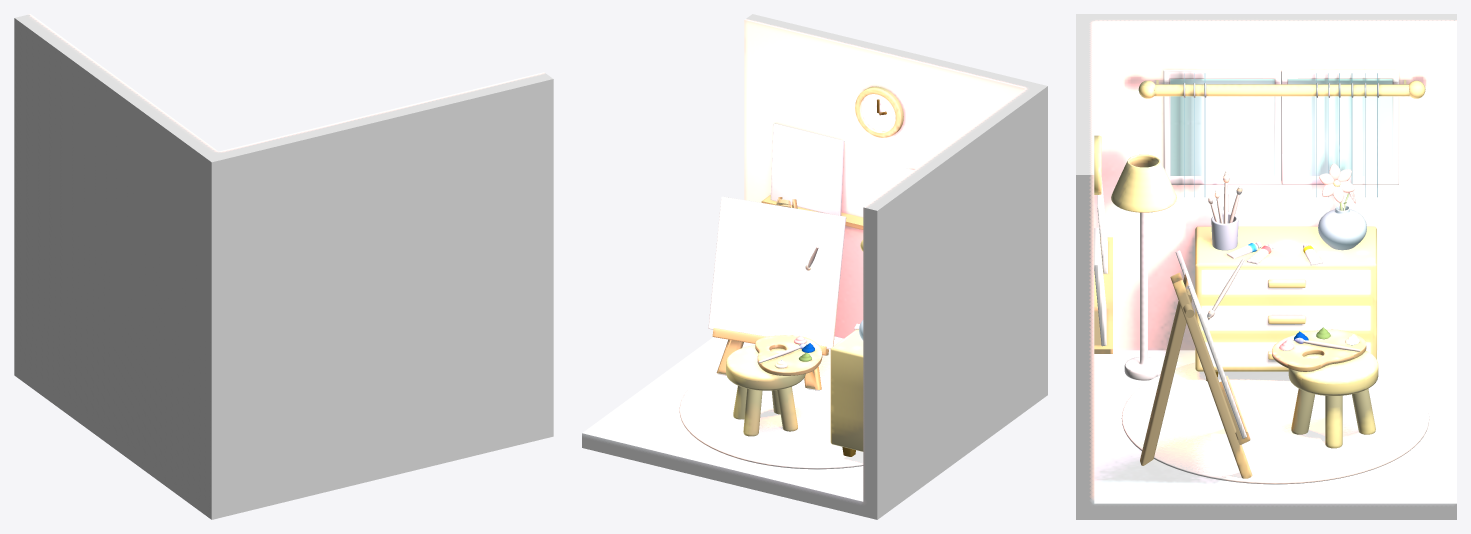
File: room_painting.gltf
3 renders of one model, left to right at view 1: azimuth 30°, elevation 25°; view 2: azimuth 150°, elevation 25°; view 3: azimuth 270°, elevation 25°, orthographic. The views are drawn at different scales.
Visible parts, largest first — view 1: room'.1; view 2: room'.1, Color-Mat.14, Cylinder.4, Cube-Mat.4, Cube-Mat.1, Cube-Mat.2; view 3: room'.1, Cube-Mat.4 (×3), Cylinder.4, Color-Mat.15, Cube-Mat.2 (×2), Color-Mat.14, Cube-Mat.1 (×2), Cylinder.1 (×2), Cube-Mat.11, Cube-Mat.12.
Boxes of the visible parts, x1=… form: room'.1: x1=14, y1=14, x2=553, y2=519; room'.1: x1=582, y1=14, x2=1047, y2=519; Color-Mat.14: x1=708, y1=123, x2=913, y2=348; Cylinder.4: x1=679, y1=351, x2=863, y2=469; Cube-Mat.4: x1=726, y1=86, x2=903, y2=451; Cube-Mat.1: x1=712, y1=197, x2=828, y2=389; Cube-Mat.2: x1=861, y1=94, x2=895, y2=131; room'.1: x1=1076, y1=14, x2=1456, y2=519; Cube-Mat.4 (×3): x1=1094, y1=80, x2=1425, y2=448; Cylinder.4: x1=1121, y1=362, x2=1429, y2=484; Color-Mat.15: x1=1170, y1=79, x2=1392, y2=175; Cube-Mat.2 (×2): x1=1201, y1=270, x2=1370, y2=366; Color-Mat.14: x1=1094, y1=70, x2=1398, y2=438; Cube-Mat.1 (×2): x1=1094, y1=237, x2=1366, y2=478; Cylinder.1 (×2): x1=1211, y1=205, x2=1366, y2=250; Cube-Mat.11: x1=1124, y1=212, x2=1162, y2=380; Cube-Mat.12: x1=1184, y1=73, x2=1377, y2=196.
Size of what is drawn, in the model's own units: 10.5 by 10.5 by 10.5.
